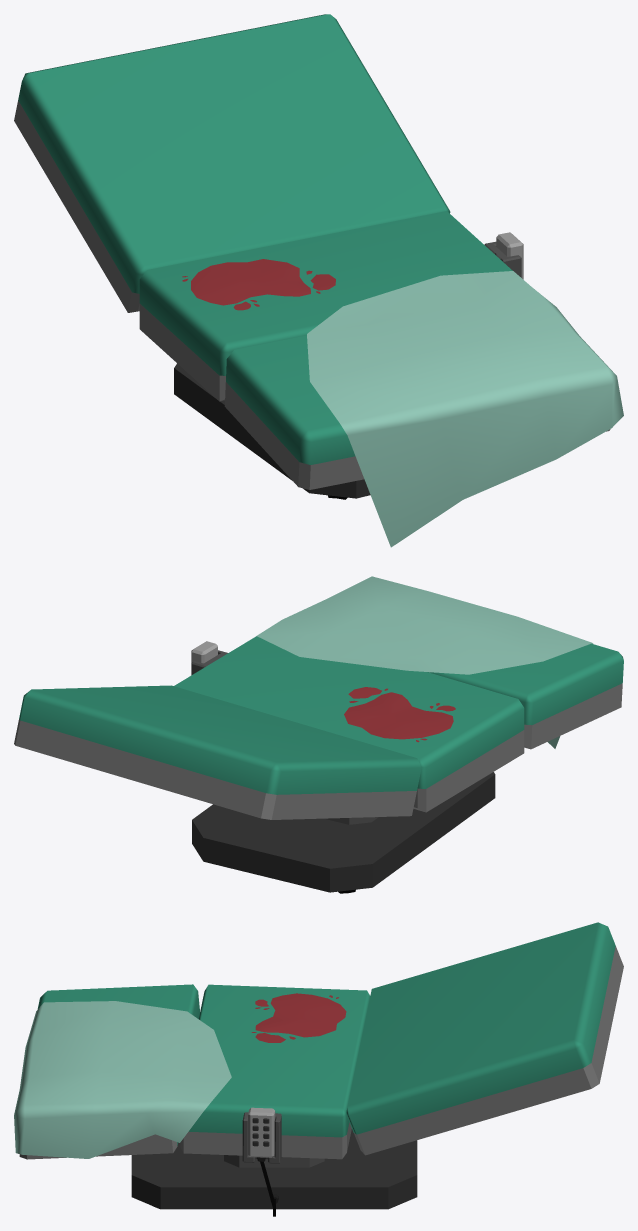
The model's file is Operating Table 02.fbx.
The picture shows the model from 3 angles, top to bottom: view 1: azimuth 30°, elevation 25°; view 2: azimuth 150°, elevation 25°; view 3: azimuth 270°, elevation 25°; orthographic projection. The views are drawn at different scales.
Parts seen in each view (by area): view 1: Operating_Table_02; view 2: Operating_Table_02; view 3: Operating_Table_02.
Boxes of the visible parts, x1,y1,x2,y2 form: Operating_Table_02: (14, 14, 623, 547); Operating_Table_02: (14, 576, 623, 893); Operating_Table_02: (14, 922, 623, 1216).
Size of the model in its own units: 135 by 90.72 by 242.
